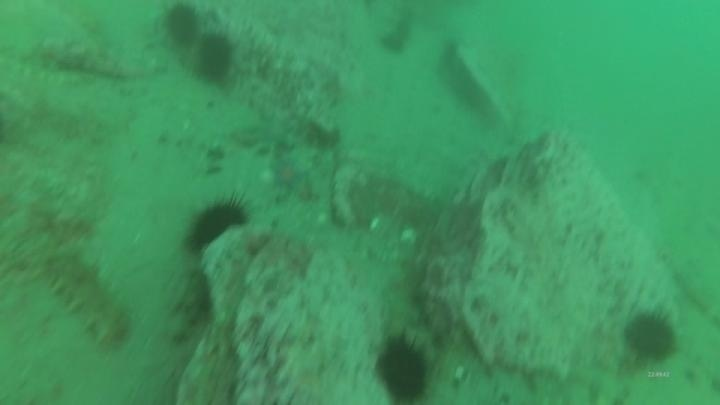echinus: (371, 331, 436, 404), (182, 194, 252, 255), (621, 308, 680, 365), (192, 31, 237, 86), (160, 2, 203, 49)
holothurian: (38, 246, 134, 349), (164, 266, 211, 344)
starfish: (267, 155, 310, 194)
